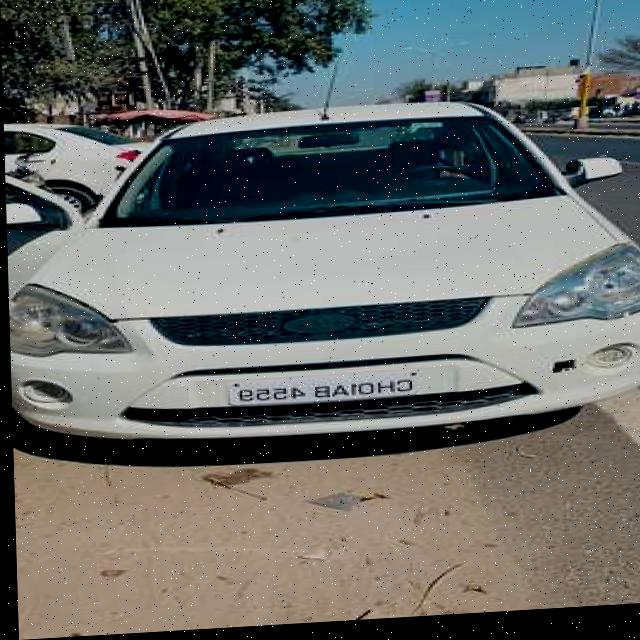plate: (224, 374, 417, 408)
